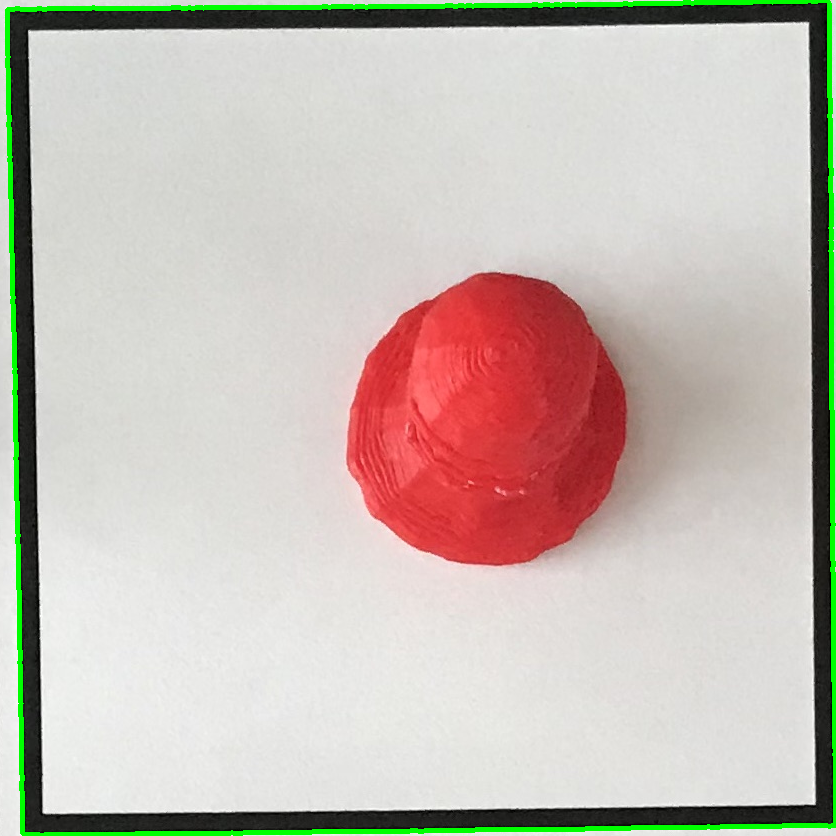Red Pawn: (338, 266, 646, 579)
